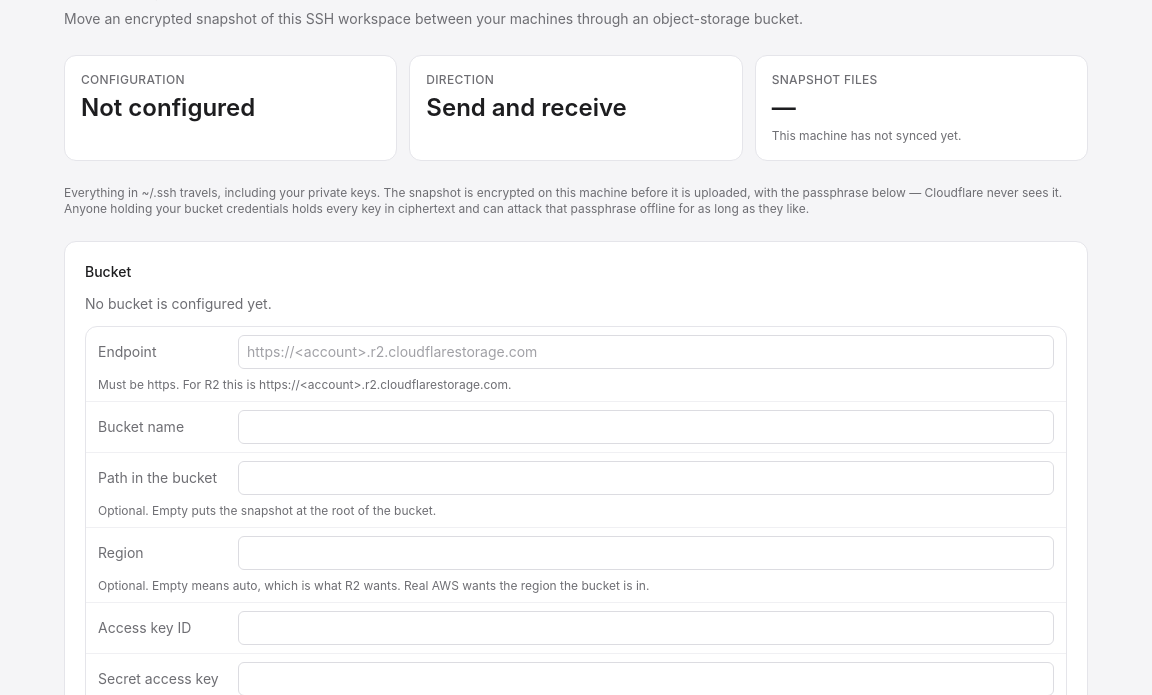
it: SyncPanel › configures a bucket and clears the credentials from the form
The image size is (1152, 695).
Type "https://acc.r2.cloudflarestorage.com" into the field labelled "Endpoint".
click(646, 352); type("https://acc.r2.cloudflarestorage.com")  # box [238, 335, 1054, 369]
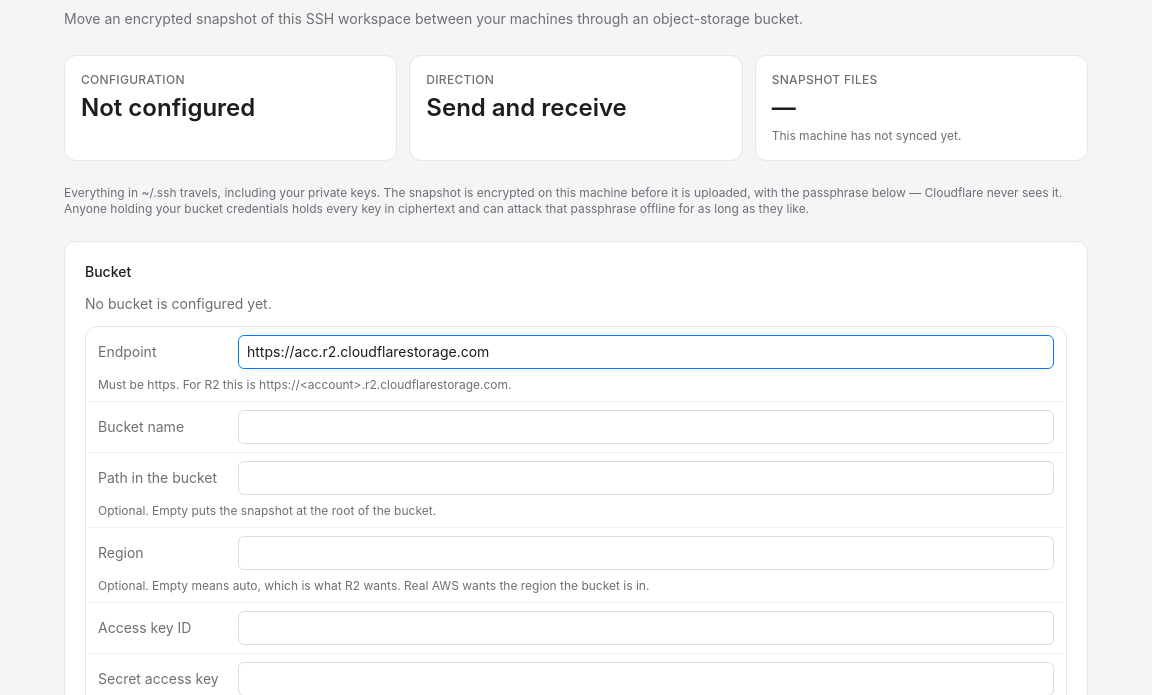
Type "sshc" into the field labelled "Bucket name".
click(646, 427); type("sshc")  # box [238, 410, 1054, 444]
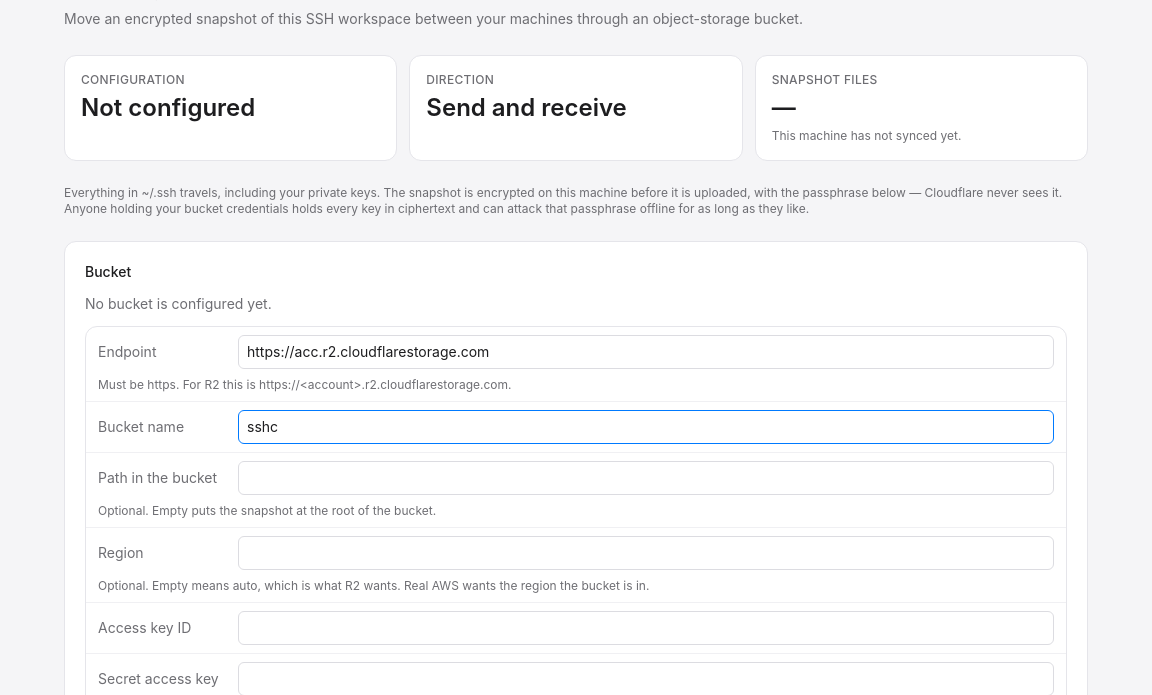
Type "AKID" into the field labelled "Access key ID".
click(646, 628); type("AKID")  # box [238, 611, 1054, 645]
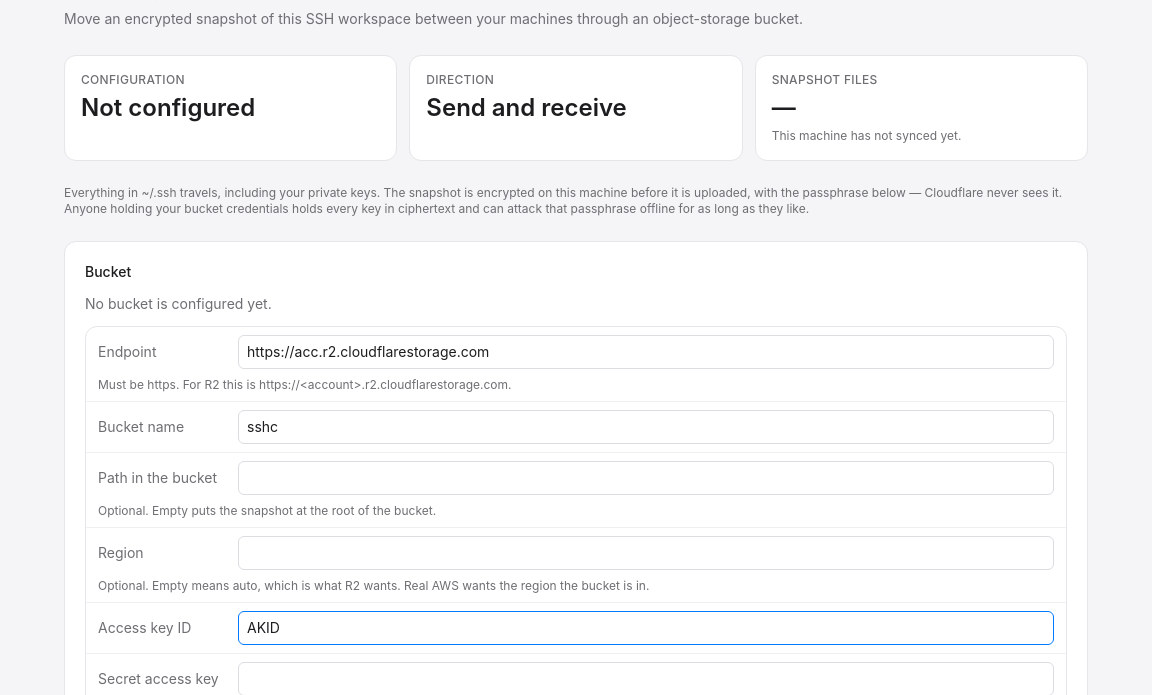
Type "the-secret" into the password field labelled "Secret access key".
click(646, 679); type("the-secret")  # box [238, 662, 1054, 694]
(page scrolled)
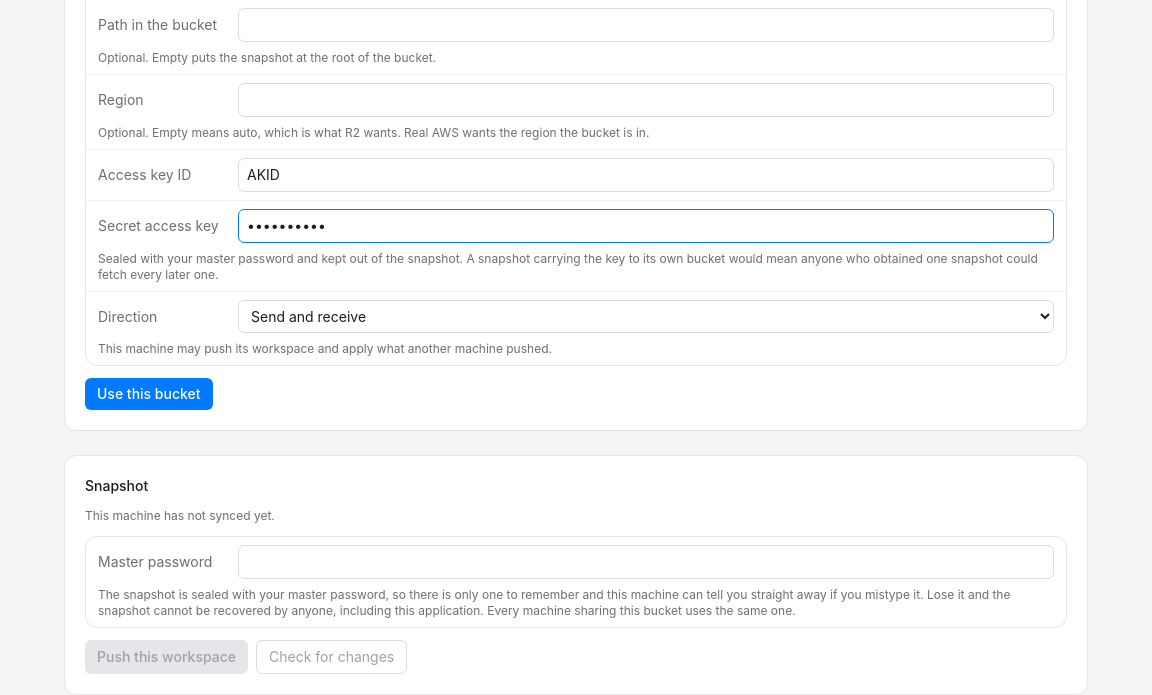
Click the button "Use this bucket".
click(149, 394)  # box [85, 378, 212, 410]
(page scrolled)
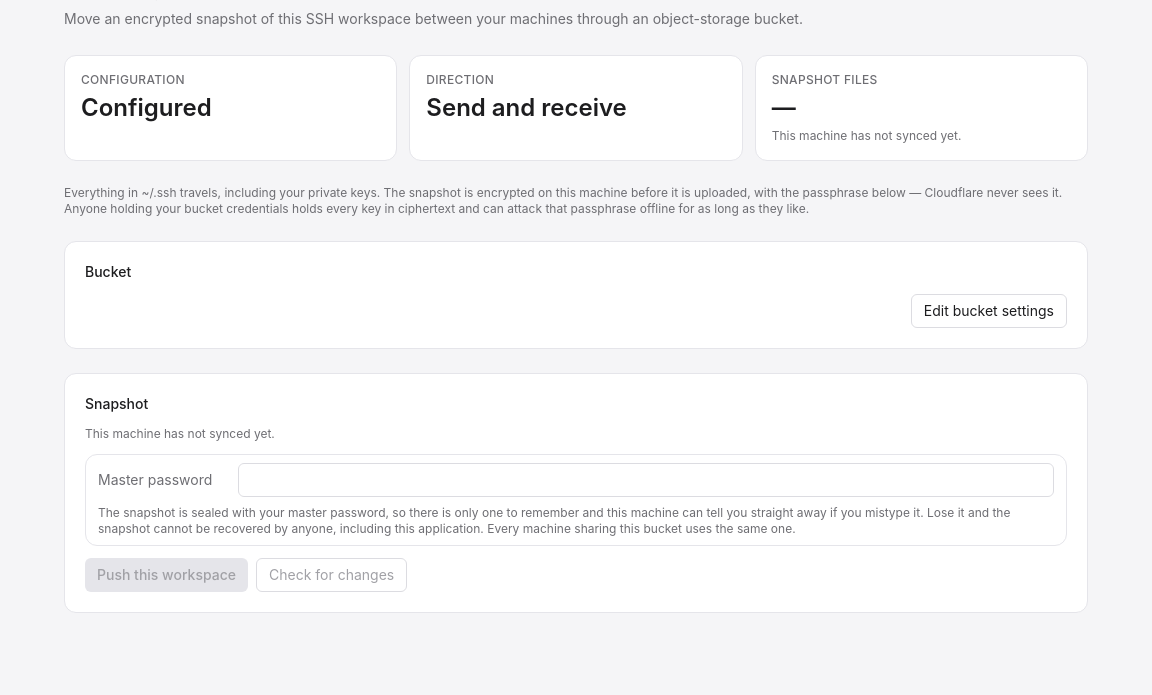
Expected: the text labelled "Secret access key" is gone
Expected: the button "Edit bucket settings" is shown, [911, 294, 1067, 328]
